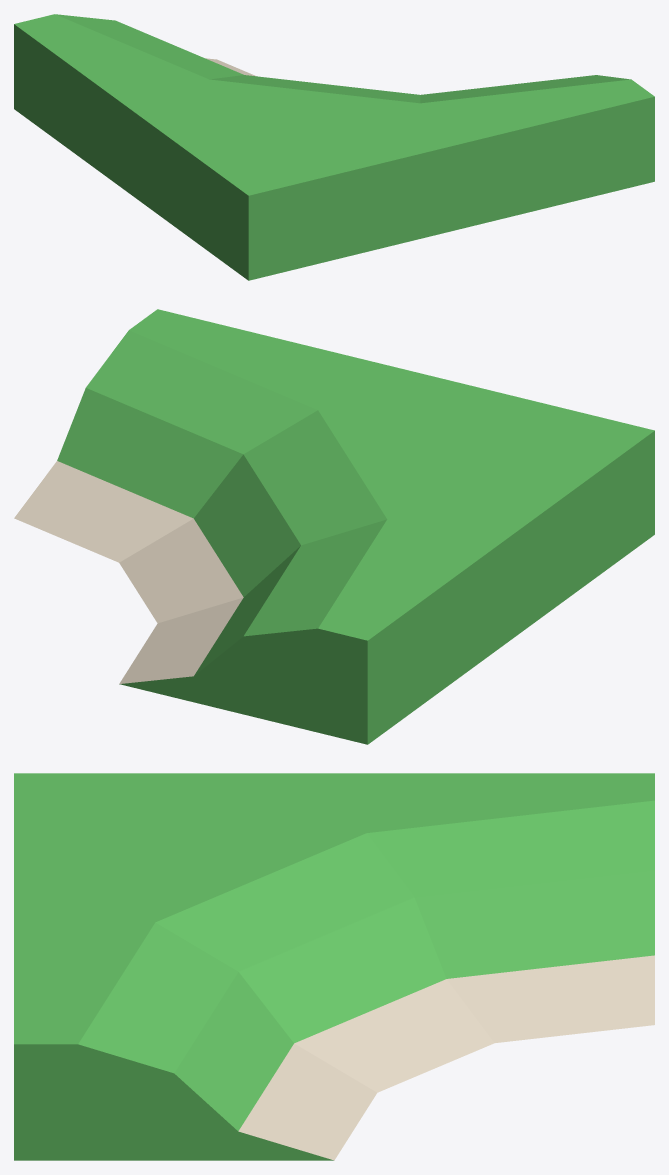
The model's file is Path_Corner_Outer_1x1.glb.
3 views of the same model, one above another, from view 1: azimuth 30°, elevation 25°; view 2: azimuth 150°, elevation 25°; view 3: azimuth 270°, elevation 25° (orthographic). The views are drawn at different scales.
Visible parts, largest first — view 1: object1; view 2: object1; view 3: object1.
Boxes of the visible parts, x1=… form: object1: x1=14, y1=14, x2=654, y2=280; object1: x1=14, y1=309, x2=654, y2=744; object1: x1=14, y1=773, x2=654, y2=1160.
Bounding box in the file's own units: 1 × 0.2 × 1.
